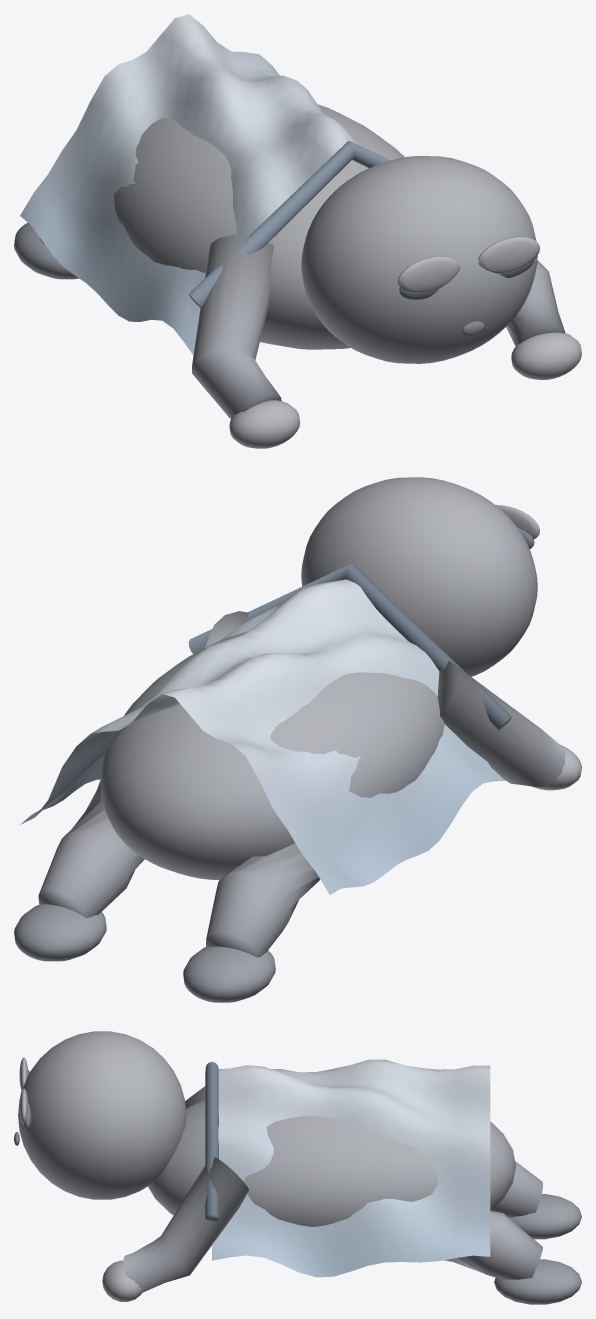
The model's file is grijze_slaper.glb.
3 views of the same model, one above another, from view 1: azimuth 30°, elevation 25°; view 2: azimuth 150°, elevation 25°; view 3: azimuth 270°, elevation 25° (orthographic). The views are drawn at different scales.
Visible parts, largest first — view 1: cloth__010, opaque__005, opaque__000, opaque__006, opaque__011, opaque__009, opaque__007, opaque__008, opaque__013, opaque__015, opaque__002; view 2: cloth__010, opaque__000, opaque__005, opaque__001, opaque__006, opaque__003, opaque__002, opaque__004, opaque__011, opaque__007, opaque__008; view 3: cloth__010, opaque__005, opaque__000, opaque__008, opaque__003, opaque__004, opaque__002, opaque__011, opaque__001, opaque__009.
Boxes of the visible parts, x1,y1,x2,y2 form: cloth__010: (20, 14, 396, 355); opaque__005: (301, 156, 537, 363); opaque__000: (114, 104, 404, 349); opaque__006: (192, 235, 281, 419); opaque__011: (189, 141, 390, 307); opaque__009: (511, 332, 581, 379); opaque__007: (229, 400, 300, 448); opaque__008: (506, 260, 565, 346); opaque__013: (397, 256, 460, 293); opaque__015: (478, 236, 539, 273); opaque__002: (14, 222, 78, 279); cloth__010: (20, 579, 504, 894); opaque__000: (100, 631, 444, 879); opaque__005: (301, 477, 537, 676); opaque__001: (206, 843, 320, 957); opaque__006: (437, 661, 565, 786); opaque__003: (38, 780, 144, 918); opaque__002: (183, 946, 275, 1002); opaque__004: (14, 904, 106, 961); opaque__011: (188, 564, 511, 730); opaque__007: (533, 744, 581, 790); opaque__008: (205, 611, 249, 647); cloth__010: (212, 1059, 490, 1277); opaque__005: (18, 1031, 186, 1199); opaque__000: (148, 1100, 515, 1226); opaque__008: (123, 1157, 249, 1292); opaque__003: (444, 1211, 542, 1279); opaque__004: (494, 1259, 581, 1304); opaque__002: (508, 1194, 581, 1239); opaque__011: (205, 1062, 218, 1222); opaque__001: (491, 1161, 542, 1217); opaque__009: (102, 1260, 142, 1301).
Size of the model in its own units: 0.9169 by 0.7 by 1.6.
